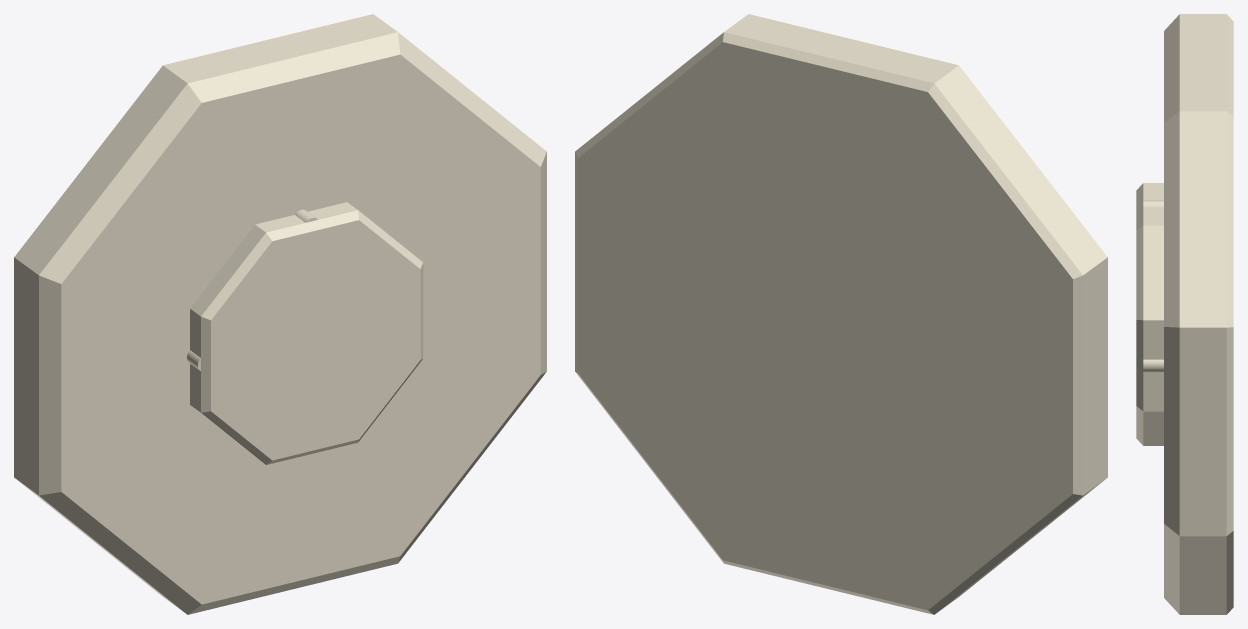
The model's file is t3@ivory.glb.
The picture shows the model from 3 angles, left to right: view 1: azimuth 30°, elevation 25°; view 2: azimuth 150°, elevation 25°; view 3: azimuth 270°, elevation 25°; orthographic projection. The views are drawn at different scales.
Visible parts, largest first — view 1: geometry_0; view 2: geometry_0; view 3: geometry_0.
Part boxes in pixels (left/top/right/bottom): geometry_0: left=14, top=14, right=546, bottom=614; geometry_0: left=575, top=14, right=1107, bottom=614; geometry_0: left=1136, top=14, right=1233, bottom=614.
Bounding box in the file's own units: 32 × 32 × 5.6.
